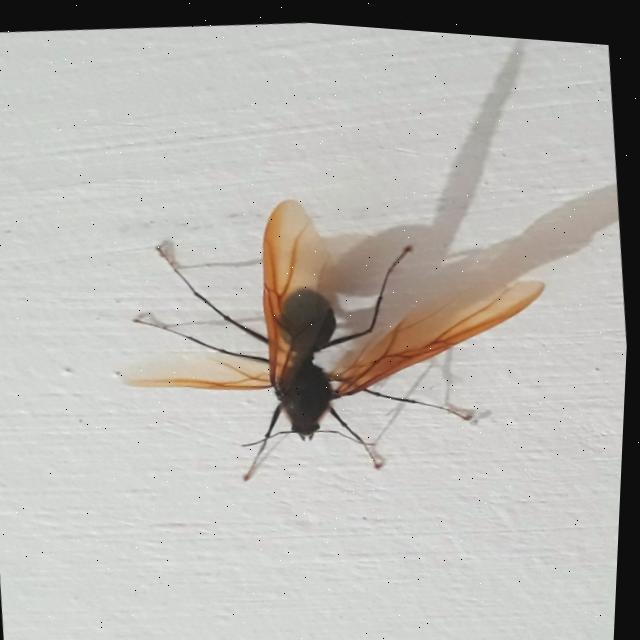Alive-Male-Alate: (100, 157, 572, 509)
